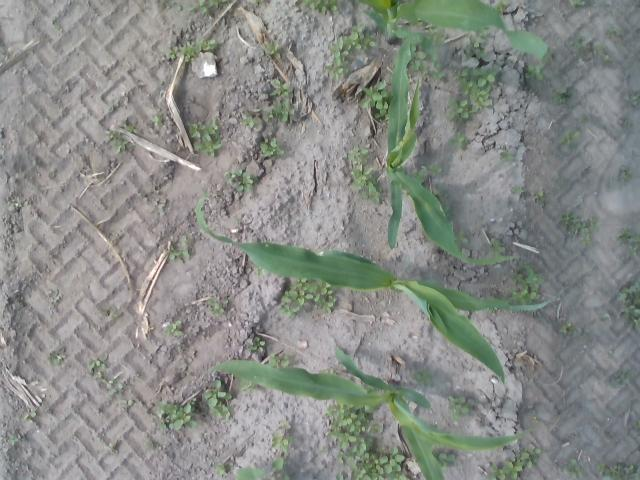Maize: (195, 192, 560, 386), (207, 346, 534, 480), (386, 40, 521, 266), (359, 0, 549, 66)
Weeds: (322, 404, 406, 480), (322, 22, 377, 86), (238, 80, 296, 129), (446, 68, 498, 120), (278, 277, 340, 319), (347, 146, 382, 208), (414, 29, 448, 82), (490, 444, 540, 480), (155, 396, 198, 433), (562, 213, 604, 250), (510, 264, 546, 307), (185, 119, 224, 158), (202, 380, 235, 421), (568, 36, 614, 64), (616, 278, 640, 331), (361, 79, 391, 121), (233, 458, 290, 480), (168, 38, 218, 63), (106, 120, 136, 153), (612, 226, 640, 260), (224, 169, 258, 195), (270, 422, 294, 452), (466, 30, 488, 60), (168, 236, 194, 261), (600, 463, 638, 480), (187, 0, 225, 17), (258, 136, 283, 159), (298, 0, 336, 15), (448, 396, 472, 418), (410, 367, 436, 386), (88, 356, 110, 378), (206, 298, 230, 318), (161, 320, 186, 338), (522, 63, 544, 83), (417, 164, 441, 182), (247, 336, 267, 356), (607, 369, 628, 388), (178, 345, 198, 364), (566, 459, 585, 478), (448, 130, 466, 150), (48, 347, 66, 366), (440, 452, 459, 470), (489, 237, 507, 256), (454, 227, 472, 246), (552, 88, 570, 107), (560, 131, 580, 147), (150, 199, 166, 218), (238, 380, 259, 394), (45, 287, 62, 304), (158, 0, 182, 12), (268, 355, 290, 368), (605, 26, 625, 40), (532, 188, 546, 208), (510, 186, 530, 200), (143, 430, 156, 450), (498, 150, 516, 164), (560, 322, 578, 335), (491, 0, 509, 13), (8, 197, 23, 212), (266, 44, 280, 59), (102, 304, 118, 317), (7, 429, 20, 445), (620, 166, 633, 182), (627, 92, 640, 108), (24, 411, 38, 424), (254, 265, 266, 278), (579, 112, 590, 126), (55, 22, 67, 34), (151, 114, 163, 126), (106, 442, 119, 453), (216, 461, 227, 474), (109, 102, 120, 114), (138, 193, 150, 204), (530, 414, 540, 426), (624, 120, 636, 130), (568, 0, 584, 7), (150, 184, 160, 194), (180, 364, 189, 372), (634, 419, 640, 431), (246, 0, 266, 3)
